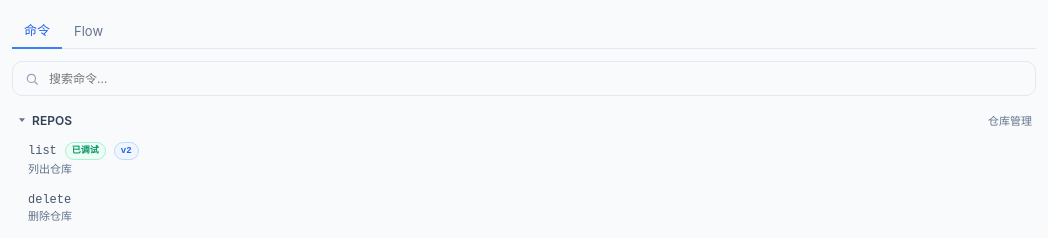
Test case: CommandTree › tab 切换过滤：命令 ↔ Flow 内容互斥，placeholder 随 tab 变化
Expected: the field with placeholder "搜索命令…" is shown, [47,70,1023,87]
Expected: the text "list" is shown, [28,144,57,158]
切到 Flow：命令项消失，flow 项出现（主名显示 command 形式）
Click the button with test id "side-tab" showing "Flow" at point(88, 32), box [62,15,115,49]
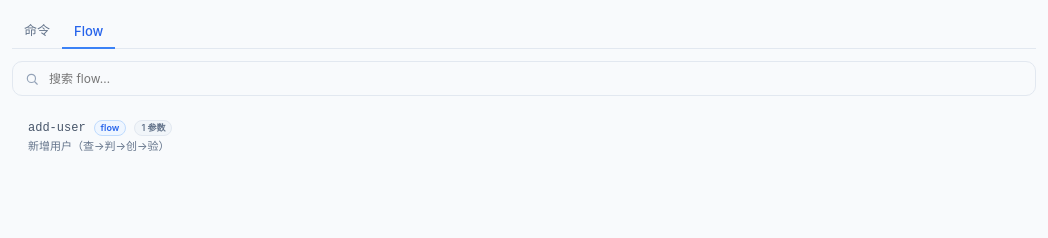
Expected: the field with placeholder "搜索 flow…" is shown, [47,70,1023,87]
Expected: the button "list" is gone
Expected: the text "add-user" is shown, [28,121,86,135]
 切回命令：恢复
Click the button with test id "side-tab" showing "命令" at point(37, 30), box [12,12,62,49]
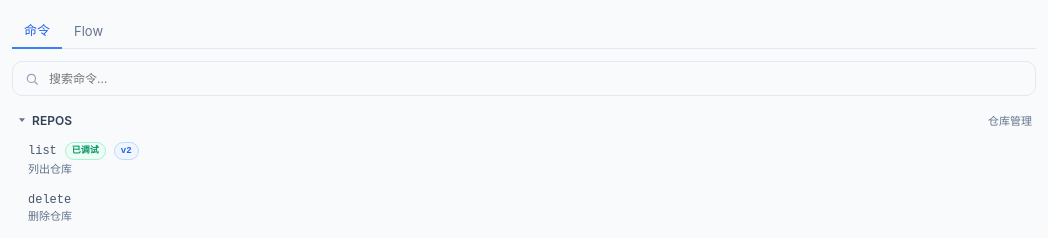
Expected: the text "list" is shown, [28,144,57,158]
Expected: the button "add-user" is gone
